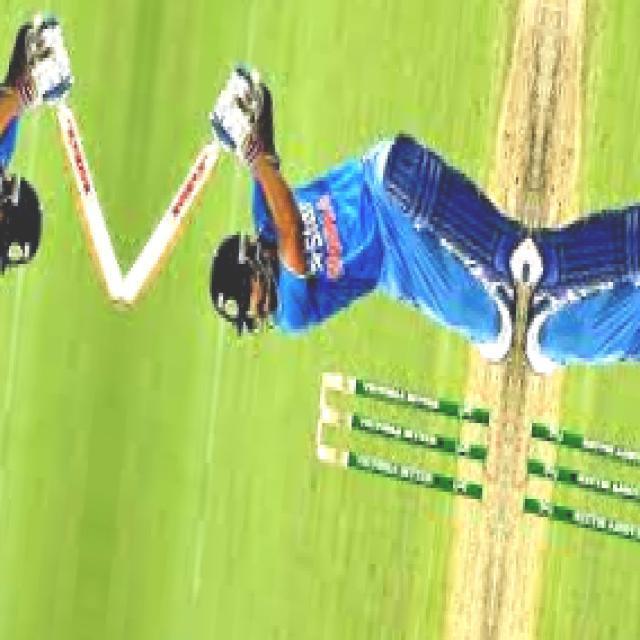bat: (119, 148, 220, 315)
toe: (115, 298, 138, 313)
